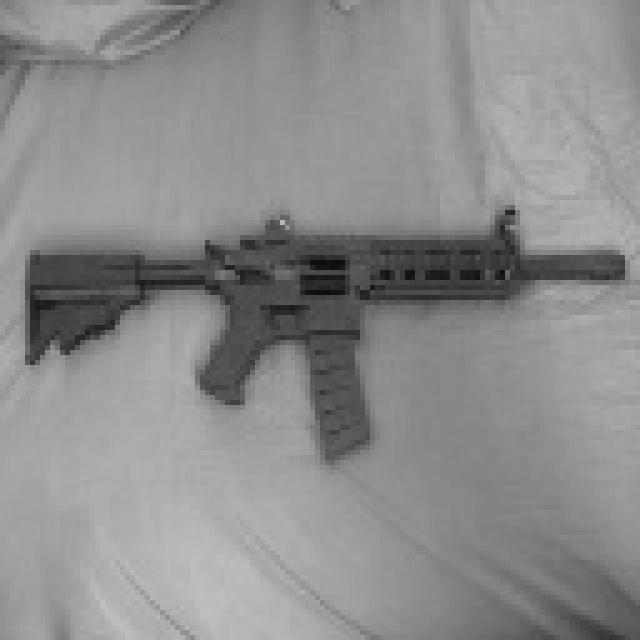Rifle: (0, 190, 635, 480)
